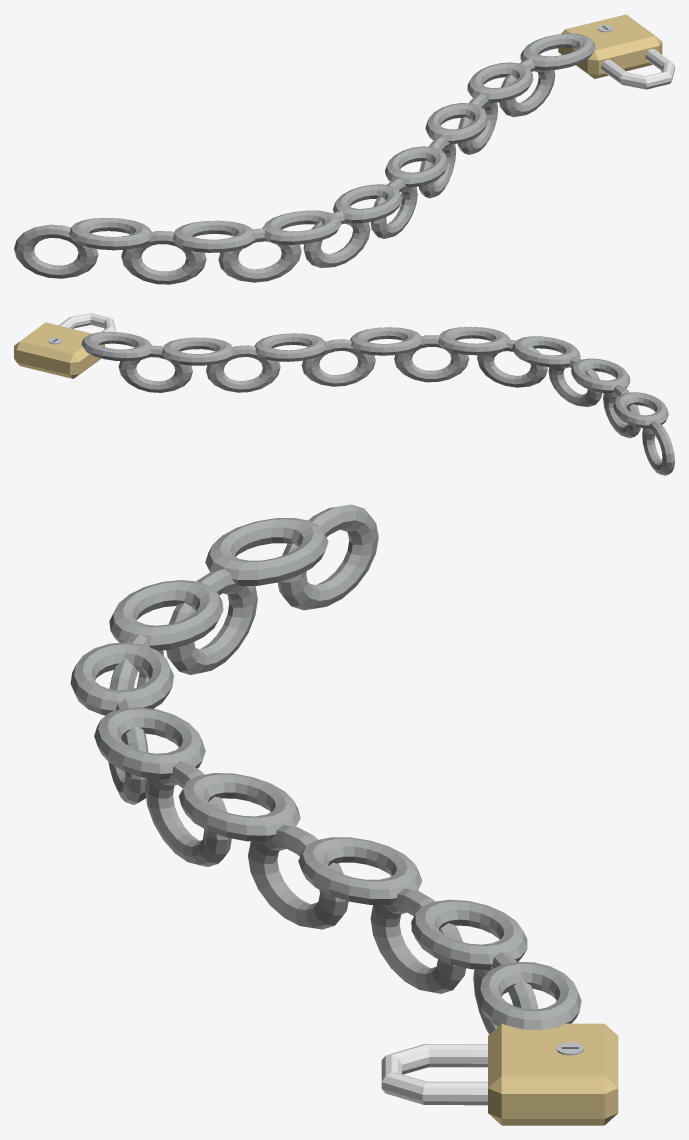
The model's file is corrente_cadeado.glb.
3 views of the same model, one above another, from view 1: azimuth 30°, elevation 25°; view 2: azimuth 150°, elevation 25°; view 3: azimuth 270°, elevation 25° (orthographic). The views are drawn at different scales.
Parts seen in each view (by area): view 1: corrente_cadeado_galvanizado, corrente_cadeado_latao, corrente_cadeado_aco_polido; view 2: corrente_cadeado_galvanizado, corrente_cadeado_latao, corrente_cadeado_aco_polido; view 3: corrente_cadeado_galvanizado, corrente_cadeado_latao, corrente_cadeado_aco_polido.
Part boxes in pixels (box(x1,y1,x2,y2)): corrente_cadeado_galvanizado: box(14, 33, 595, 284); corrente_cadeado_latao: box(558, 14, 662, 78); corrente_cadeado_aco_polido: box(601, 48, 674, 89); corrente_cadeado_galvanizado: box(81, 326, 674, 475); corrente_cadeado_latao: box(14, 322, 104, 378); corrente_cadeado_aco_polido: box(58, 313, 116, 332); corrente_cadeado_galvanizado: box(70, 504, 581, 1034); corrente_cadeado_latao: box(488, 1023, 618, 1125); corrente_cadeado_aco_polido: box(381, 1044, 487, 1105).
Bounding box in the file's own units: 0.4044 × 0.0305 × 0.1596.
